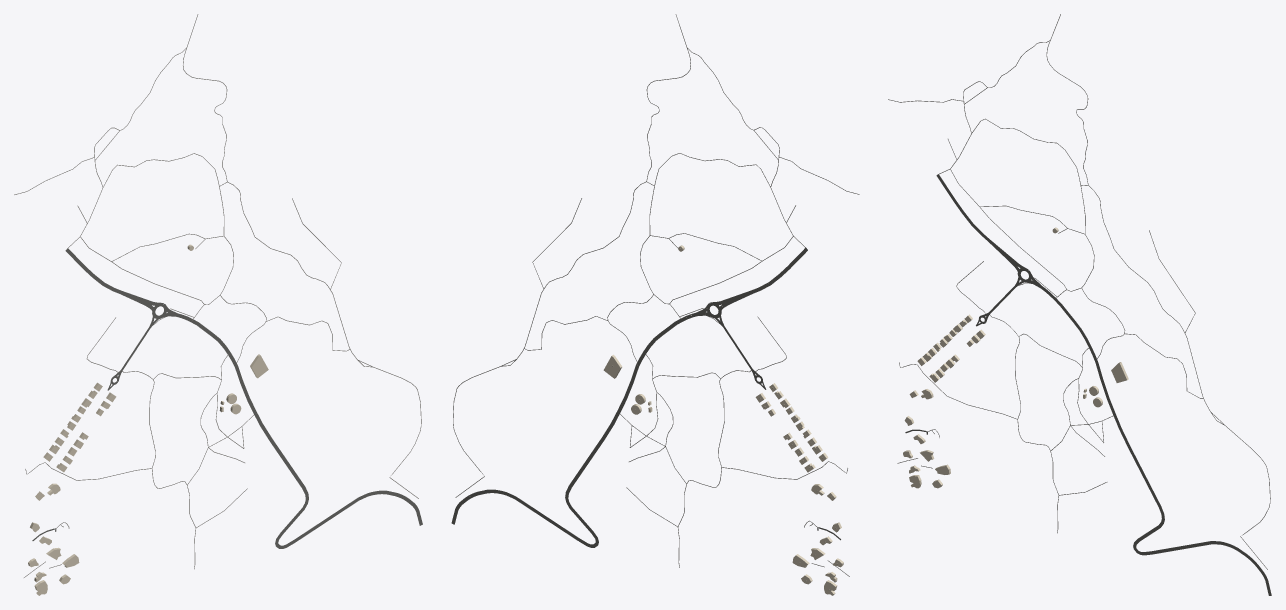
Rendered from historic-palestine-08_24_3495_3186.glb.
3 renders of one model, left to right at view 1: azimuth 30°, elevation 25°; view 2: azimuth 150°, elevation 25°; view 3: azimuth 330°, elevation 25°, orthographic. The views are drawn at different scales.
Parts seen in each view (by area): view 1: Road 424.010, Road .018, Road 424.002; view 2: Road 424.010, Road .018, Road 424.002; view 3: Road 424.010, Road .018, Road 424.002.
Boxes of the visible parts, bbox=[...] form: Road 424.010: bbox=[191, 319, 291, 468]; Road .018: bbox=[183, 48, 421, 498]; Road 424.002: bbox=[294, 490, 422, 541]; Road 424.010: bbox=[582, 318, 682, 467]; Road .018: bbox=[453, 48, 690, 497]; Road 424.002: bbox=[451, 489, 579, 540]; Road 424.010: bbox=[1054, 298, 1148, 482]; Road .018: bbox=[1046, 40, 1270, 569]; Road 424.002: bbox=[1151, 541, 1271, 595].
Bounding box in the file's own units: 998 × 1320 × 8.7.
